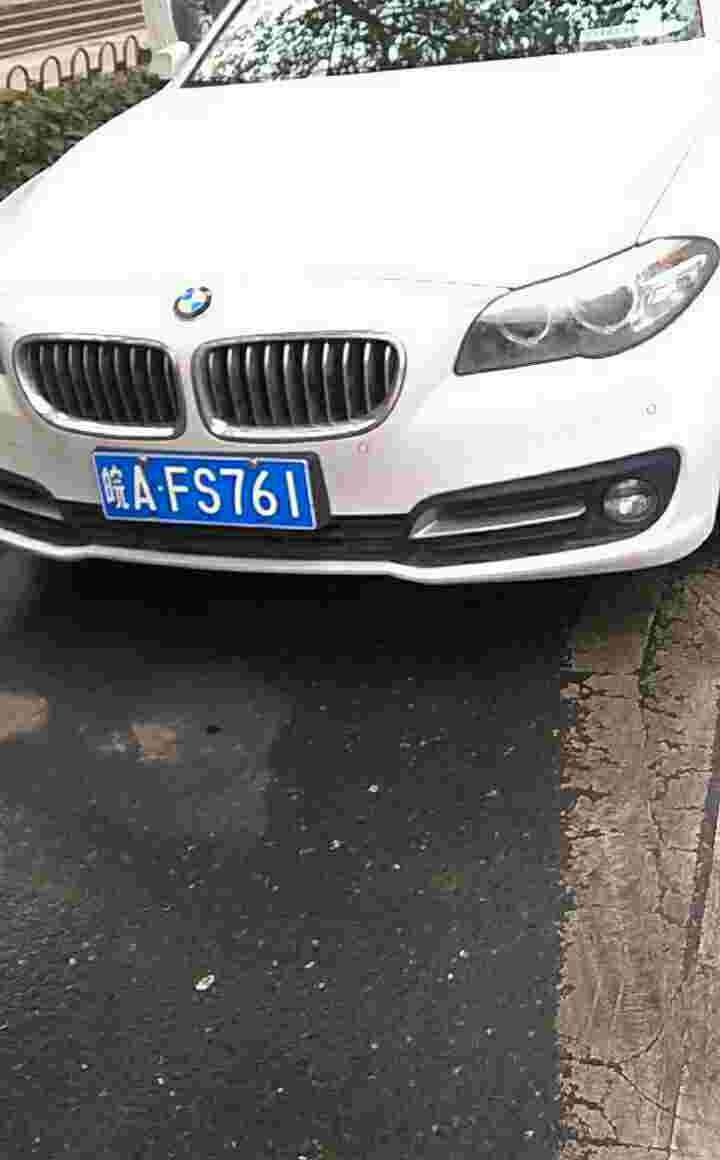plate: (89, 448, 102, 534)
